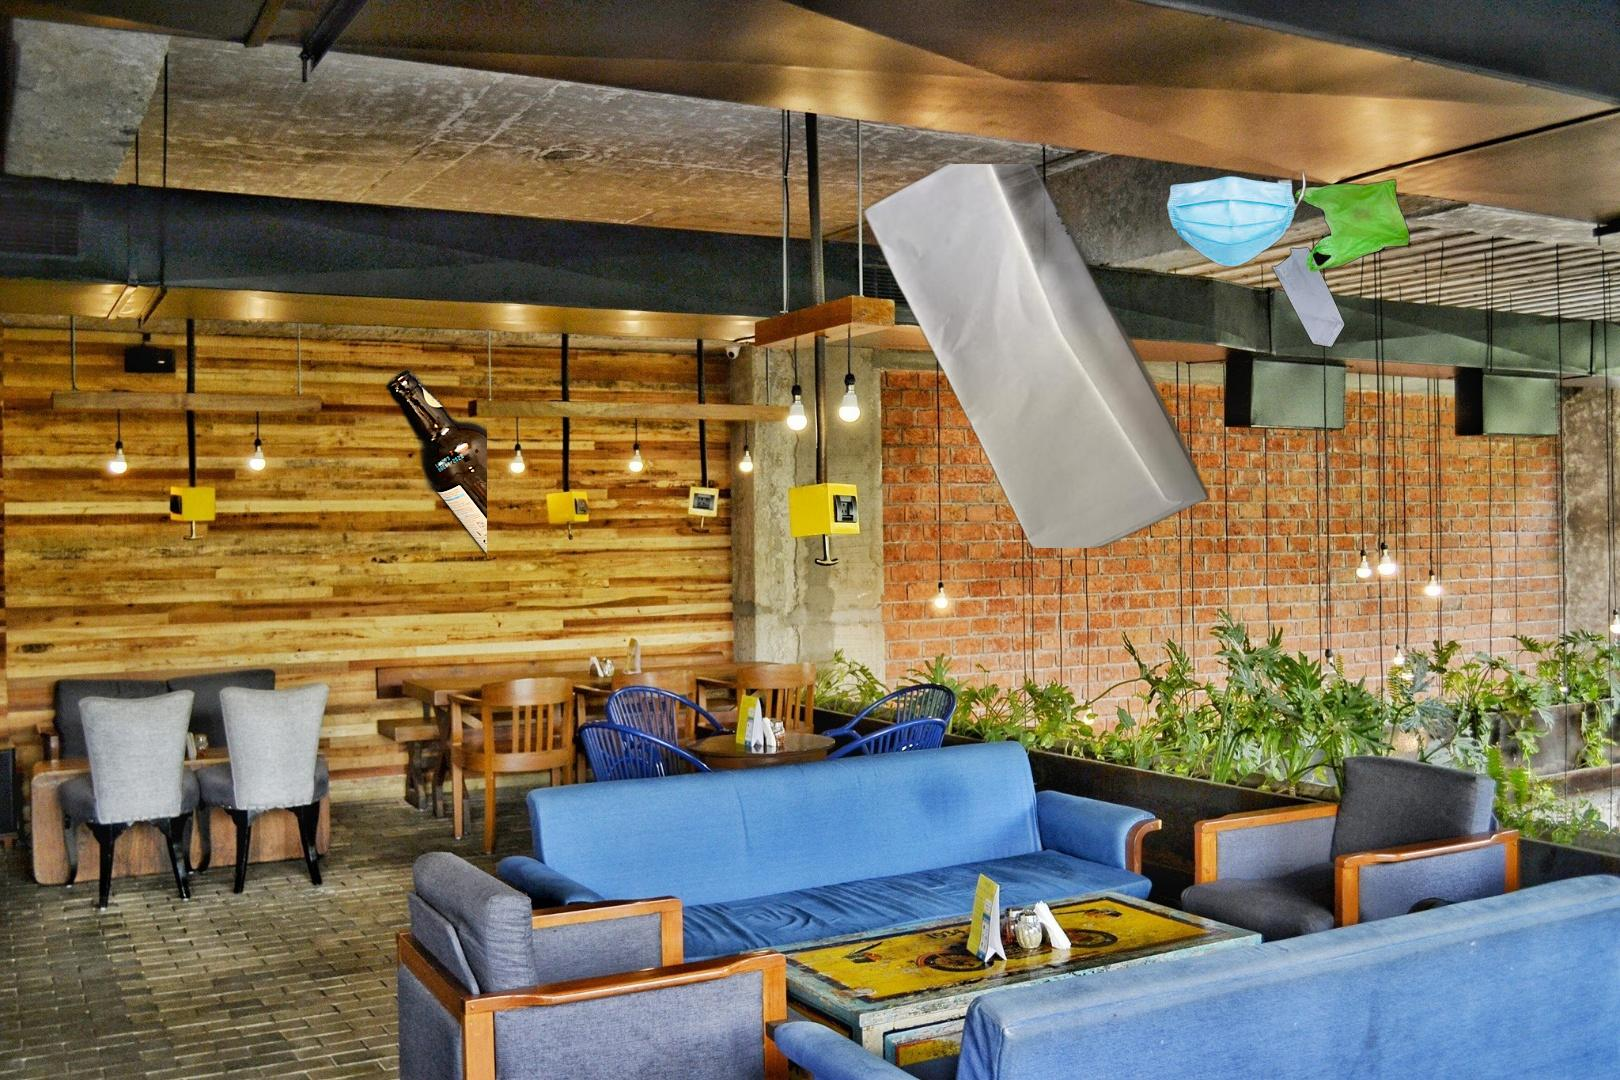glass: (380, 363, 487, 574)
paper: (859, 164, 1291, 548)
plastic-bag: (1269, 90, 1546, 391)
trash: (1158, 162, 1309, 270)
